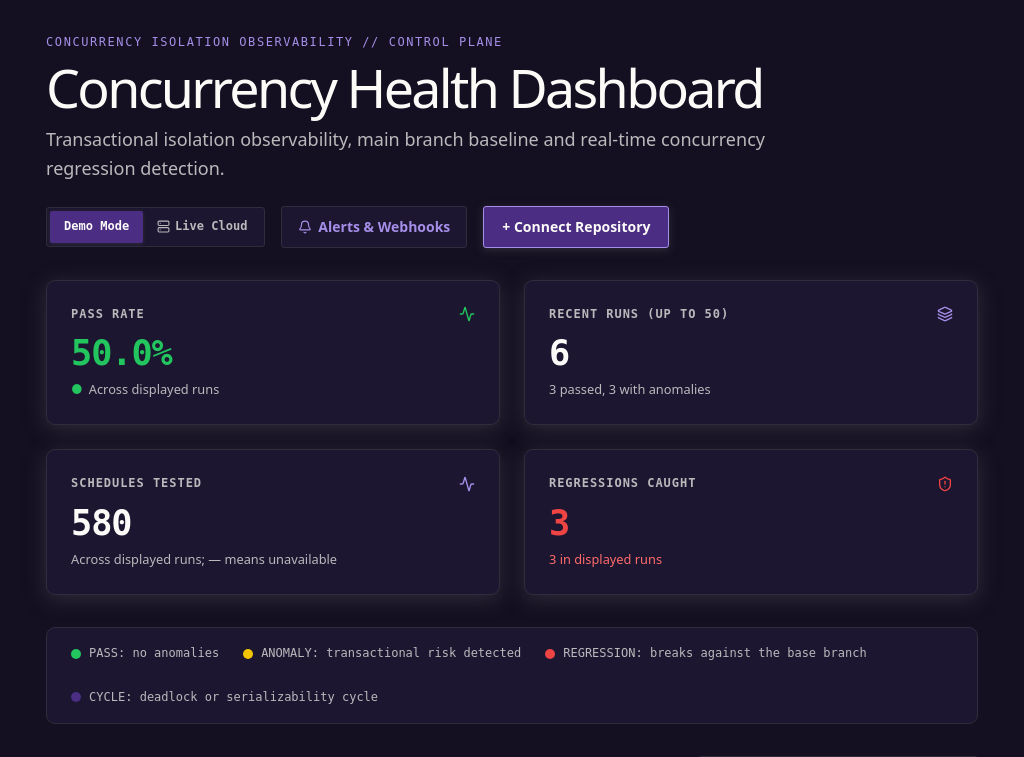
live dashboard › replaces data with an empty response and reports unavailable health
The width and height of the screenshot is (1024, 757).
Click the button "Live Cloud": [202, 227] box [143, 211, 261, 243]
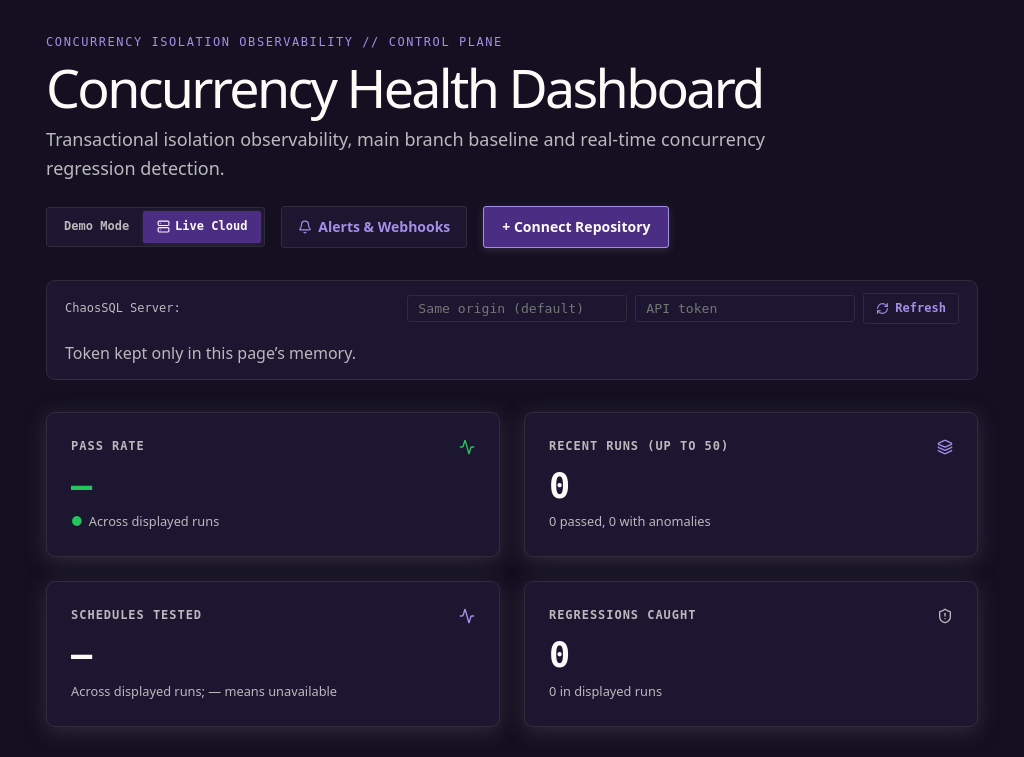
In the password field labelled "API token": [745, 308] box [635, 295, 855, 322], type "token"
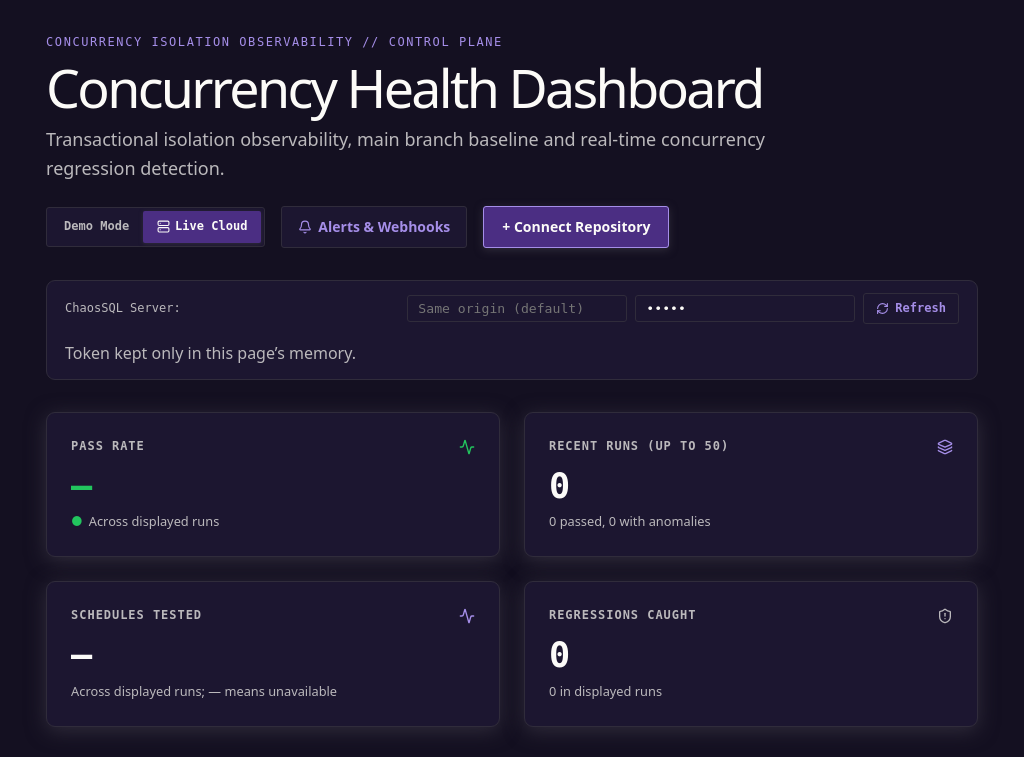
Click the button "Refresh": [911, 308] box [863, 292, 959, 324]
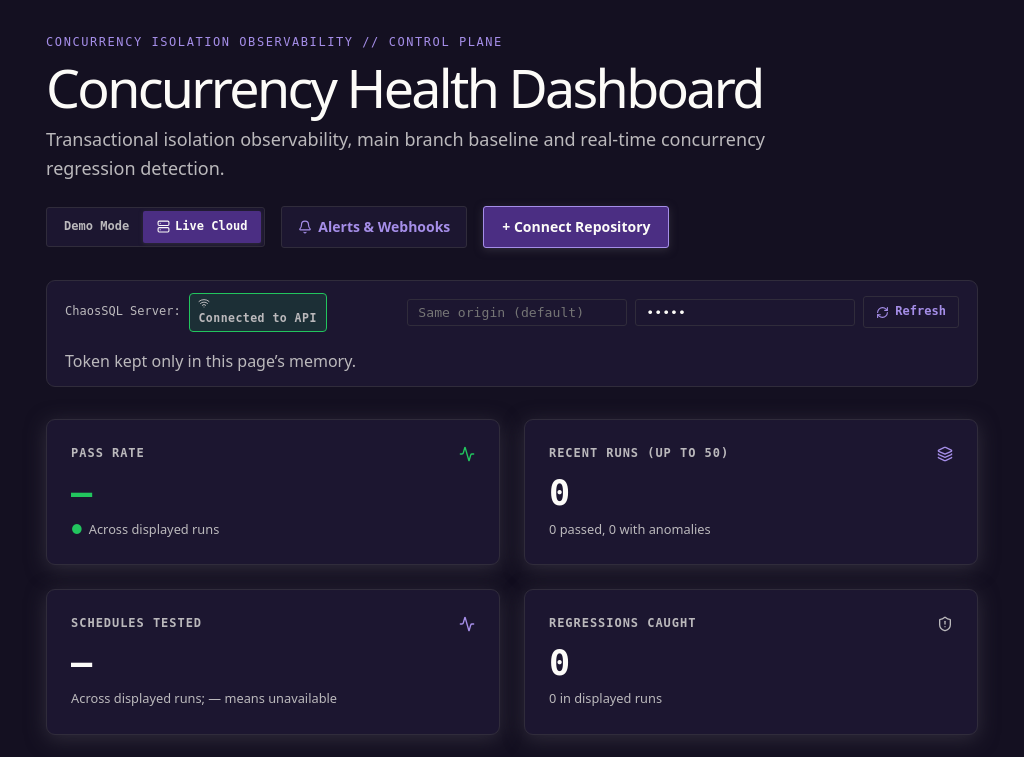
Result: the text "Connected to API" is shown at [189, 292, 327, 332]
